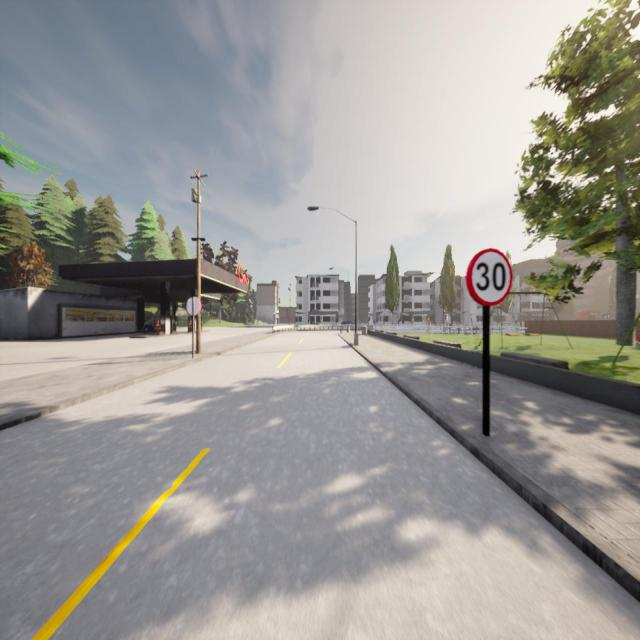Traffic_Signs: (466, 248, 514, 306), (185, 296, 202, 316)
Vehicle: (341, 320, 352, 325)
